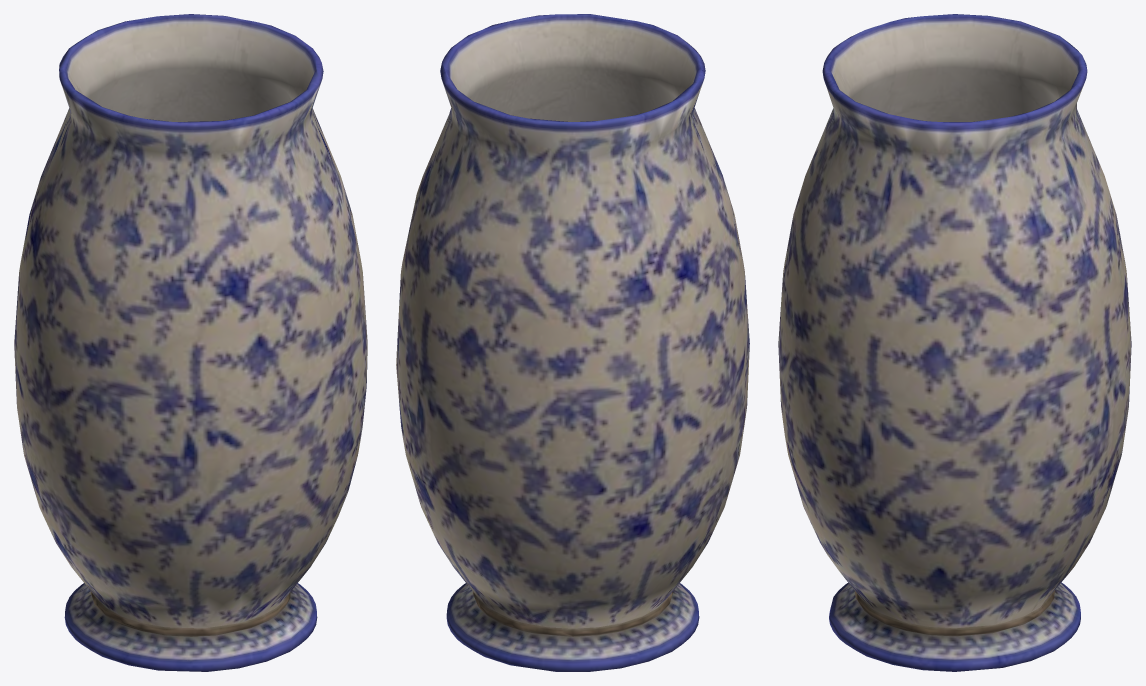
Rendered from antique_ceramic_vase_01.glb.
3 views of the same model, side by side, from view 1: azimuth 30°, elevation 25°; view 2: azimuth 150°, elevation 25°; view 3: azimuth 270°, elevation 25° (orthographic).
Parts seen in each view (by area): view 1: antique_ceramic_vase_01; view 2: antique_ceramic_vase_01; view 3: antique_ceramic_vase_01.
Boxes of the visible parts, x1,y1,x2,y2 form: antique_ceramic_vase_01: [14, 14, 367, 671]; antique_ceramic_vase_01: [396, 14, 749, 671]; antique_ceramic_vase_01: [778, 14, 1131, 671].
Size of the model in its own units: 0.255 by 0.4396 by 0.255.
1 material, 1 textured.
